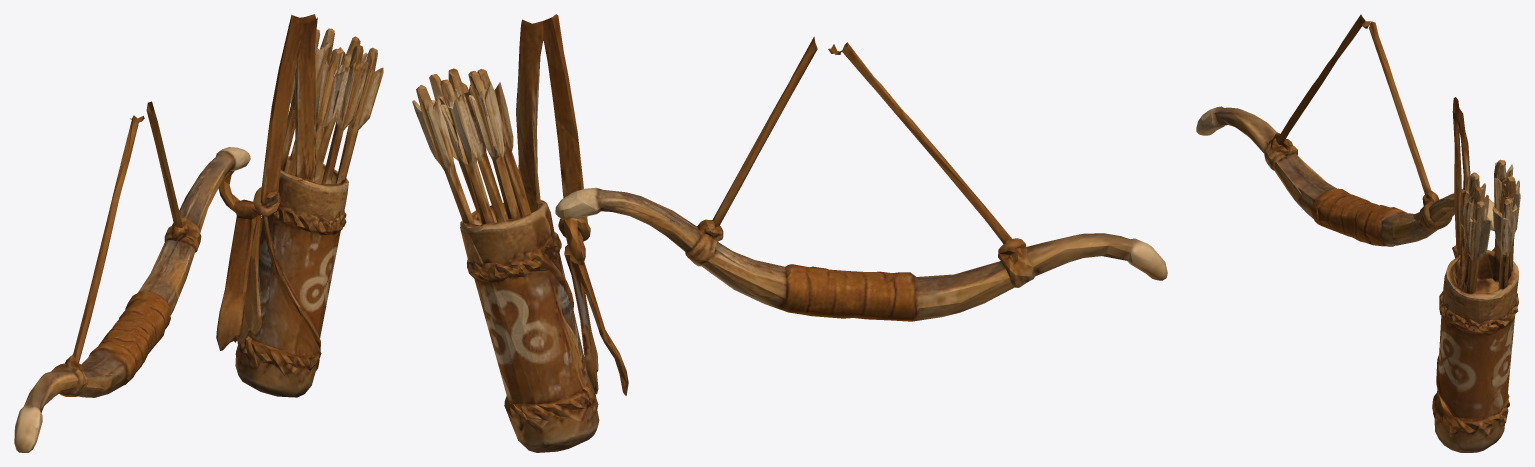
File: cradle_bow.glb
The picture shows the model from 3 angles, left to right: view 1: azimuth 30°, elevation 25°; view 2: azimuth 150°, elevation 25°; view 3: azimuth 270°, elevation 25°; orthographic projection. The views are drawn at different scales.
Bounding box in the file's own units: 0.8142 × 0.5773 × 0.4856.
1 material, 1 textured.
